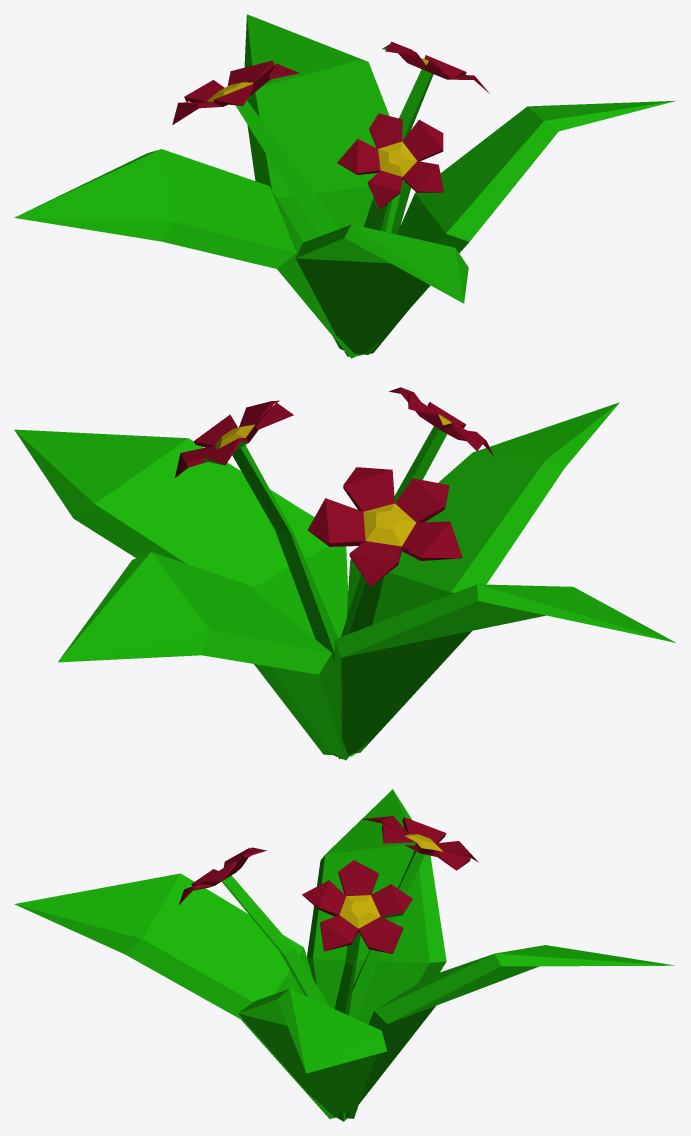
Rendered from Flower.fbx.
3 renders of one model, top to bottom at view 1: azimuth 30°, elevation 25°; view 2: azimuth 150°, elevation 25°; view 3: azimuth 270°, elevation 25°, orthographic. The views are drawn at different scales.
Parts seen in each view (by area): view 1: Flower_bush_white; view 2: Flower_bush_white; view 3: Flower_bush_white.
Part boxes in pixels (<box>): Flower_bush_white: <box>14,14,676,358</box>; Flower_bush_white: <box>14,387,675,760</box>; Flower_bush_white: <box>14,789,674,1121</box>.
Size of the model in its own units: 93.56 by 41.5 by 92.17.
